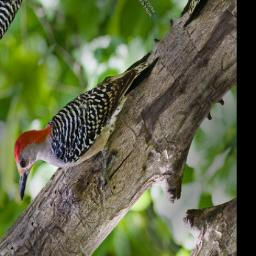Woodpecker: (0, 0, 192, 256)
